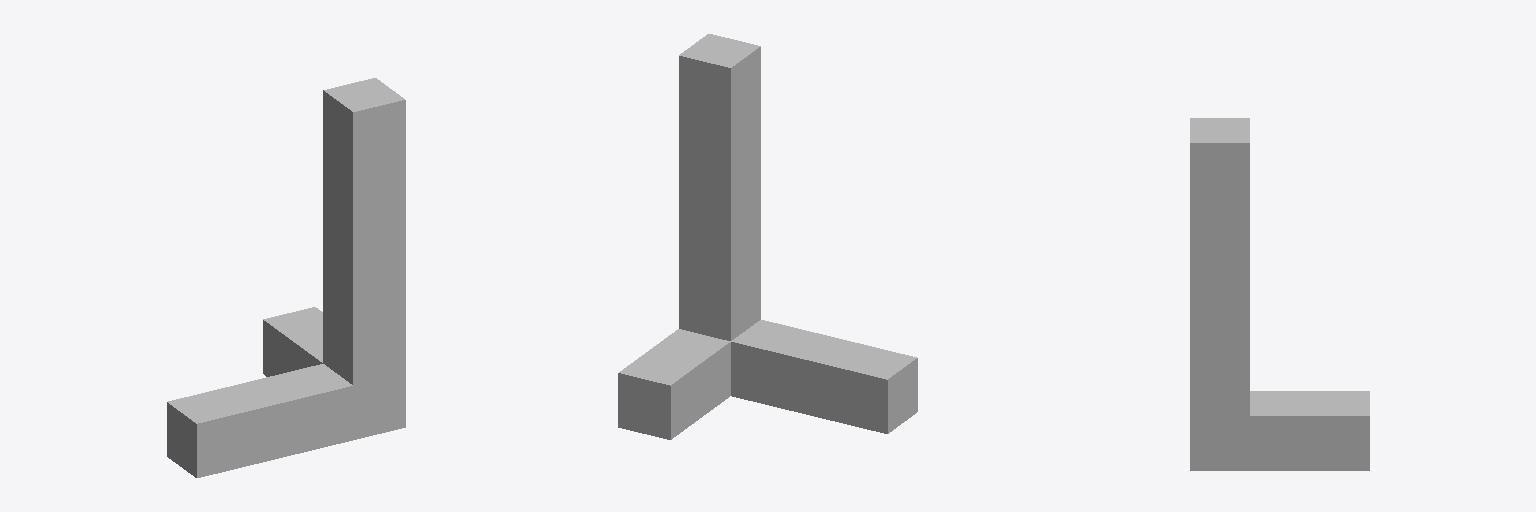
Rendered from axes.obj.
3 views of the same model, side by side, from view 1: azimuth 30°, elevation 25°; view 2: azimuth 150°, elevation 25°; view 3: azimuth 270°, elevation 25° (orthographic).
Visible parts, largest first — view 1: Axes_Cube; view 2: Axes_Cube; view 3: Axes_Cube.
Boxes of the visible parts, x1,y1,x2,y2 form: Axes_Cube: [167, 78, 405, 477]; Axes_Cube: [618, 34, 917, 439]; Axes_Cube: [1190, 118, 1369, 470].
Bounding box in the file's own units: 4 × 6 × 3.